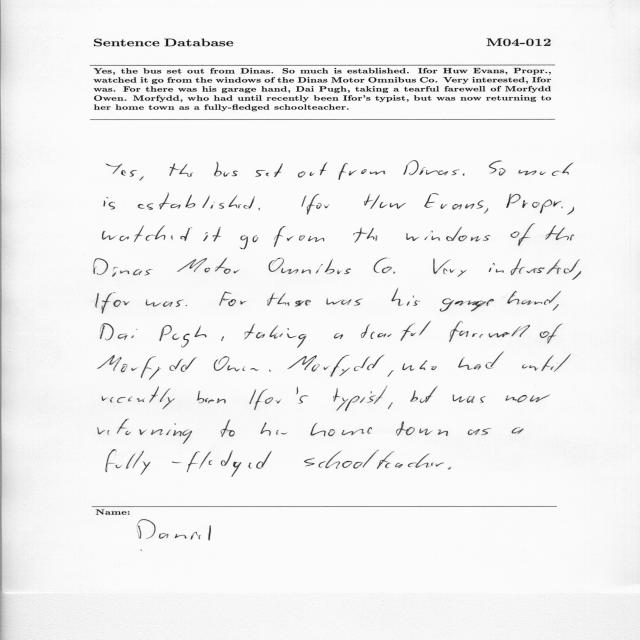word: (106, 449, 272, 477), (304, 450, 444, 469), (98, 355, 197, 380), (98, 419, 192, 444), (287, 355, 384, 377), (138, 193, 255, 210), (449, 321, 530, 342), (102, 387, 175, 410), (489, 259, 580, 276), (103, 225, 192, 242), (245, 324, 307, 348), (250, 386, 309, 410), (361, 321, 431, 341), (334, 386, 388, 411), (268, 258, 351, 274), (406, 227, 491, 242), (94, 258, 153, 277), (506, 194, 563, 213), (160, 325, 207, 348), (274, 226, 324, 247), (424, 193, 484, 210), (177, 258, 239, 274), (522, 354, 571, 372), (403, 161, 460, 176), (458, 352, 504, 370), (339, 163, 386, 180), (311, 423, 372, 436), (396, 421, 448, 436), (440, 298, 494, 312), (507, 291, 561, 305), (96, 293, 130, 314), (519, 163, 573, 176), (214, 357, 259, 372), (433, 258, 467, 277), (364, 194, 406, 209), (101, 324, 138, 341), (267, 293, 311, 306), (302, 194, 330, 214), (511, 224, 536, 246), (391, 289, 420, 306), (298, 162, 328, 178), (410, 386, 438, 403), (540, 324, 563, 344), (545, 226, 574, 241), (219, 292, 247, 307), (506, 394, 551, 403), (106, 164, 137, 177), (402, 360, 437, 371), (256, 163, 283, 177), (197, 391, 226, 404), (353, 228, 378, 243), (261, 422, 287, 436), (214, 162, 238, 177), (169, 163, 193, 177), (374, 258, 395, 274), (146, 299, 184, 307), (453, 394, 486, 403), (327, 298, 363, 306), (203, 227, 221, 242), (489, 161, 506, 176), (240, 236, 258, 250), (221, 419, 235, 437), (468, 428, 491, 435), (104, 197, 115, 209), (512, 427, 524, 434), (572, 271, 581, 280), (567, 206, 574, 215), (334, 333, 343, 339), (552, 304, 559, 311), (388, 370, 394, 377), (388, 403, 393, 409), (139, 177, 144, 181), (484, 209, 488, 214), (221, 336, 224, 341), (463, 173, 465, 176), (448, 467, 451, 469), (259, 208, 261, 210), (269, 370, 271, 372), (186, 305, 187, 306)
